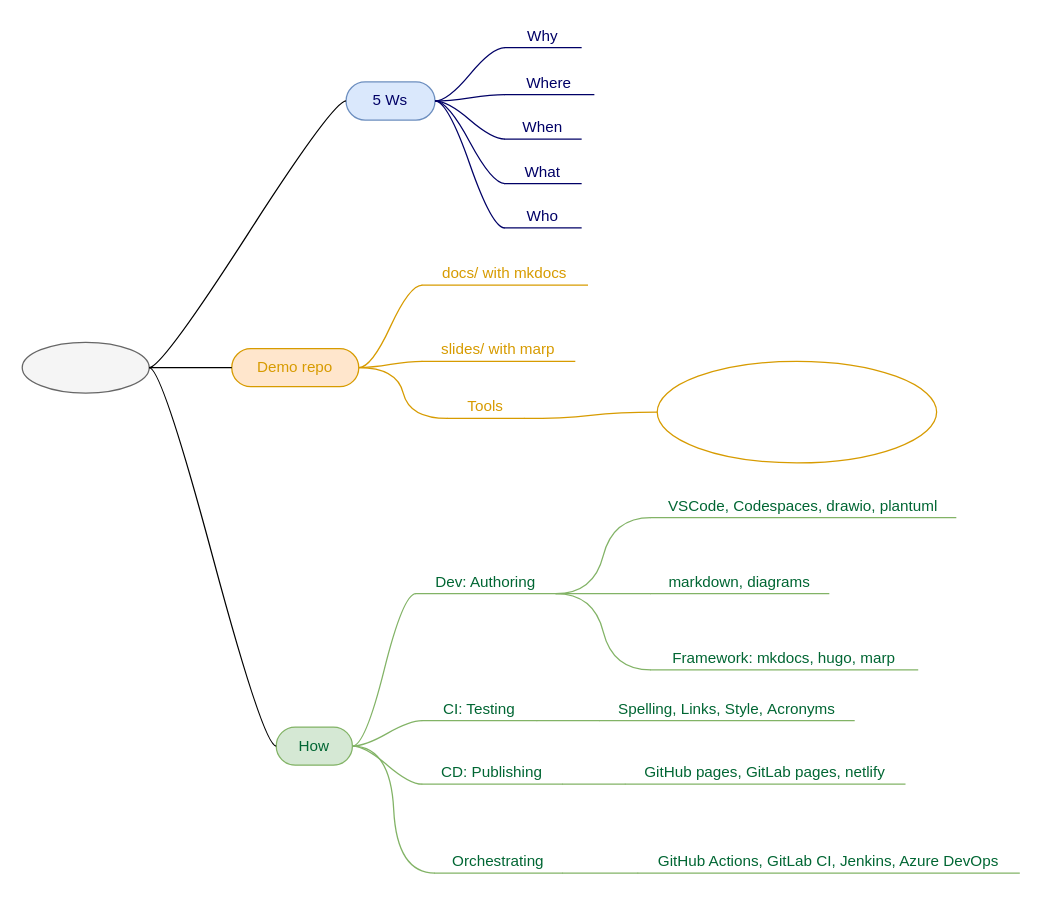
Image size: 1041x897. Some labels were removed from this diagram. Each missing label, with the centre of its shape:
CI and CD for Documentation: [85,367]
CI: Spell check, Vale style, link-check CD: publish to GitHub pages: [796,411]
